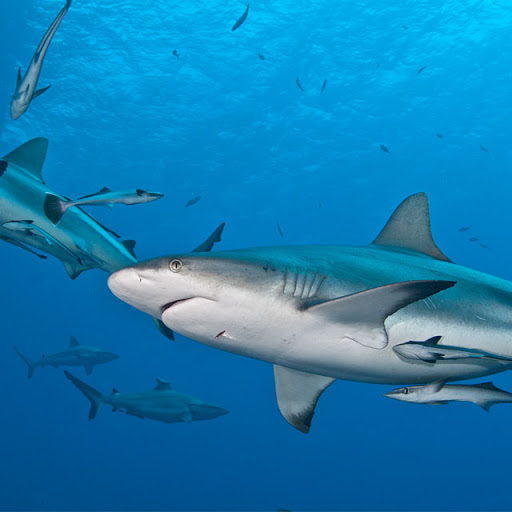shark: (110, 195, 512, 439)
